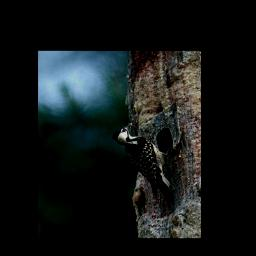Woodpecker: (111, 121, 173, 209)
